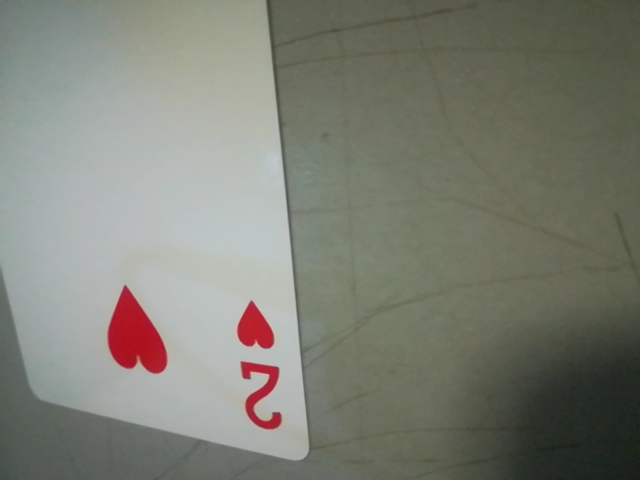hx 2: (223, 282, 301, 450)
